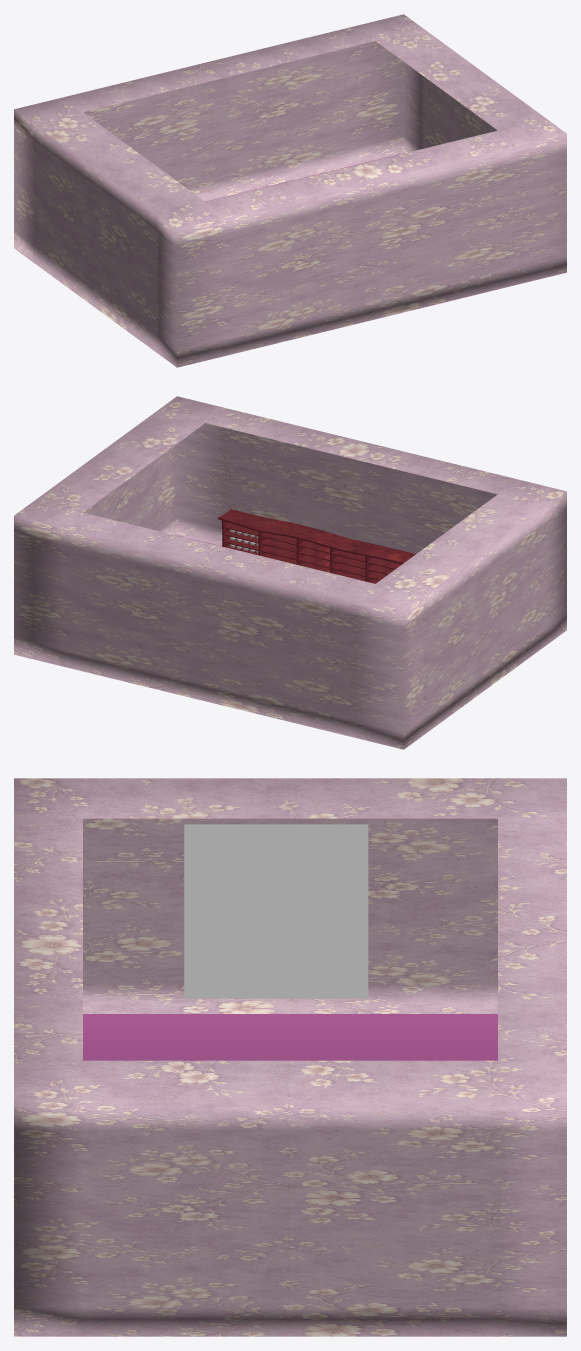
3 renders of one model, top to bottom at view 1: azimuth 30°, elevation 25°; view 2: azimuth 150°, elevation 25°; view 3: azimuth 270°, elevation 25°, orthographic. The views are drawn at different scales.
Parts seen in each view (by area): view 1: Cube.020; view 2: Cube.020, Cube; view 3: Cube.020, Erkan.
Part boxes in pixels (box(x1,y1,x2,y2)): Cube.020: box(14, 14, 566, 367); Cube.020: box(14, 396, 566, 749); Cube: box(218, 509, 415, 583); Cube.020: box(14, 778, 566, 1336); Erkan: box(184, 824, 368, 998).
Size of the model in its own units: 15.86 by 6.29 by 11.5.
Materials: 21 (2 with a texture image).
